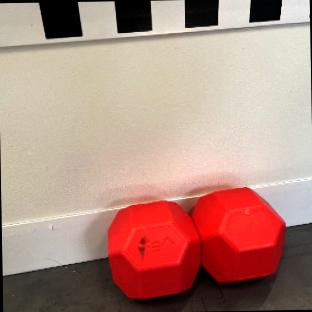V5_RED: (192, 187, 284, 282), (108, 201, 198, 297)
